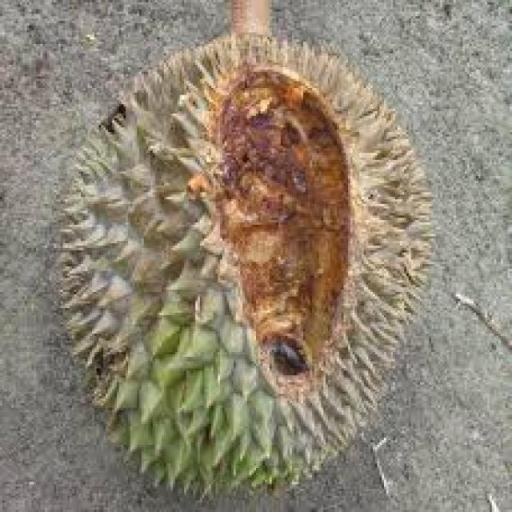rot: (12, 5, 468, 498)
